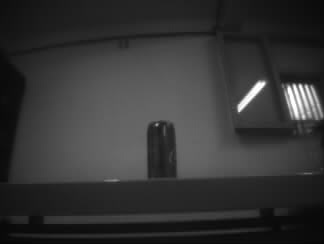Tin can: (145, 120, 177, 179)
